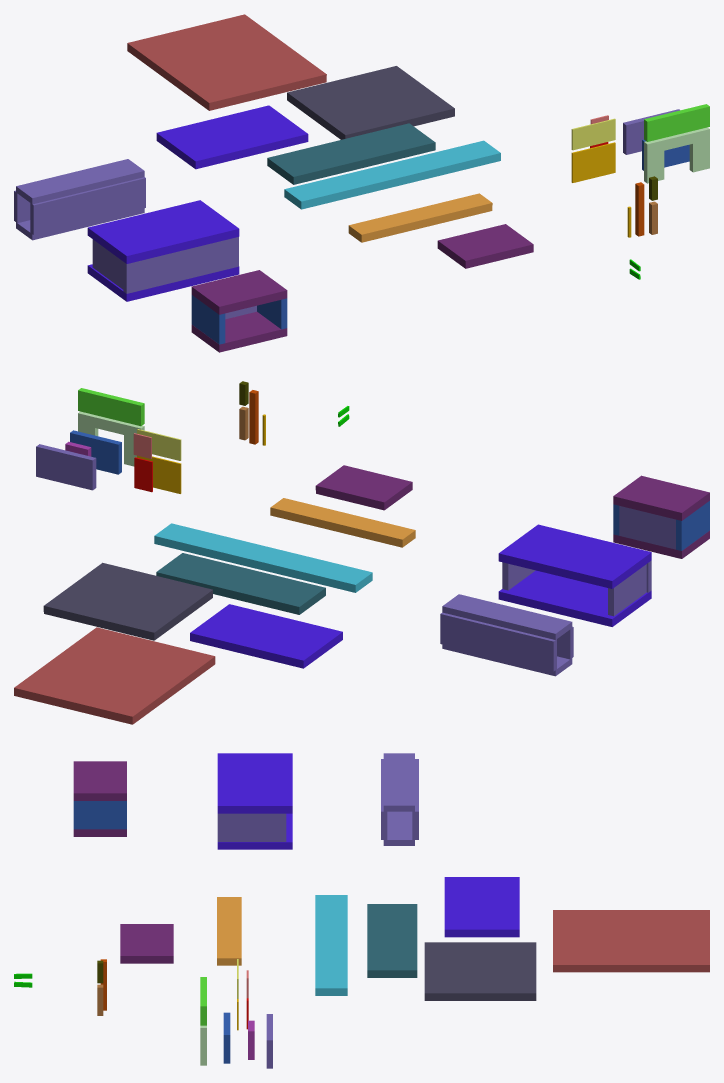
Rendered from Blocky_Modules_References.fbx.
3 views of the same model, one above another, from view 1: azimuth 30°, elevation 25°; view 2: azimuth 150°, elevation 25°; view 3: azimuth 270°, elevation 25° (orthographic). The views are drawn at different scales.
Parts seen in each view (by area): view 1: Module_015, Module_011, Module_016, Essai_Assemblage_029, Module_014, Module_013, Module_020, Module_010, Essai_Assemblage_05, Module_08, Essai_Assemblage_024, Essai_Assemblage_01 (+14 smaller); view 2: Module_015, Module_011, Essai_Assemblage_029, Module_016, Module_014, Module_013, Essai_Assemblage_034, Module_020, Module_010, Essai_Assemblage_05, Module_09, Essai_Assemblage_021 (+14 smaller); view 3: Module_015, Module_011, Essai_Assemblage_029, Module_016, Module_013, Module_014, Module_010, Essai_Assemblage_05, Essai_Assemblage_030, Module_020, Essai_Assemblage_03, Essai_Assemblage_027 (+3 smaller).
Boxes of the visible parts, <box> form: Module_015: <box>127,14,326,110</box>; Module_011: <box>287,66,454,139</box>; Module_016: <box>156,105,308,169</box>; Essai_Assemblage_029: <box>87,200,239,263</box>; Module_014: <box>284,140,500,209</box>; Module_013: <box>267,123,435,184</box>; Module_020: <box>348,193,492,242</box>; Module_010: <box>437,224,533,268</box>; Essai_Assemblage_05: <box>191,270,287,314</box>; Module_08: <box>644,127,709,183</box>; Essai_Assemblage_024: <box>30,191,89,234</box>; Essai_Assemblage_01: <box>191,311,287,352</box>; Module_015: <box>14,627,215,724</box>; Module_011: <box>43,562,212,640</box>; Essai_Assemblage_029: <box>498,524,651,588</box>; Module_016: <box>190,604,342,668</box>; Module_014: <box>154,523,372,592</box>; Module_013: <box>156,553,325,614</box>; Essai_Assemblage_034: <box>498,570,651,626</box>; Module_020: <box>270,498,415,547</box>; Module_010: <box>315,465,412,510</box>; Essai_Assemblage_05: <box>613,475,709,520</box>; Module_09: <box>36,444,96,490</box>; Essai_Assemblage_021: <box>497,626,556,671</box>; Module_015: <box>553,910,709,972</box>; Module_011: <box>424,942,536,1000</box>; Essai_Assemblage_029: <box>217,753,292,813</box>; Module_016: <box>444,877,519,937</box>; Module_013: <box>367,904,417,977</box>; Module_014: <box>315,895,347,995</box>; Module_010: <box>120,924,173,963</box>; Essai_Assemblage_05: <box>73,761,126,800</box>; Essai_Assemblage_030: <box>224,813,286,841</box>; Module_020: <box>217,897,241,965</box>; Essai_Assemblage_03: <box>73,801,126,829</box>; Essai_Assemblage_027: <box>383,779,414,811</box>.
Size of the model in its own units: 11847 by 1190 by 12658.
